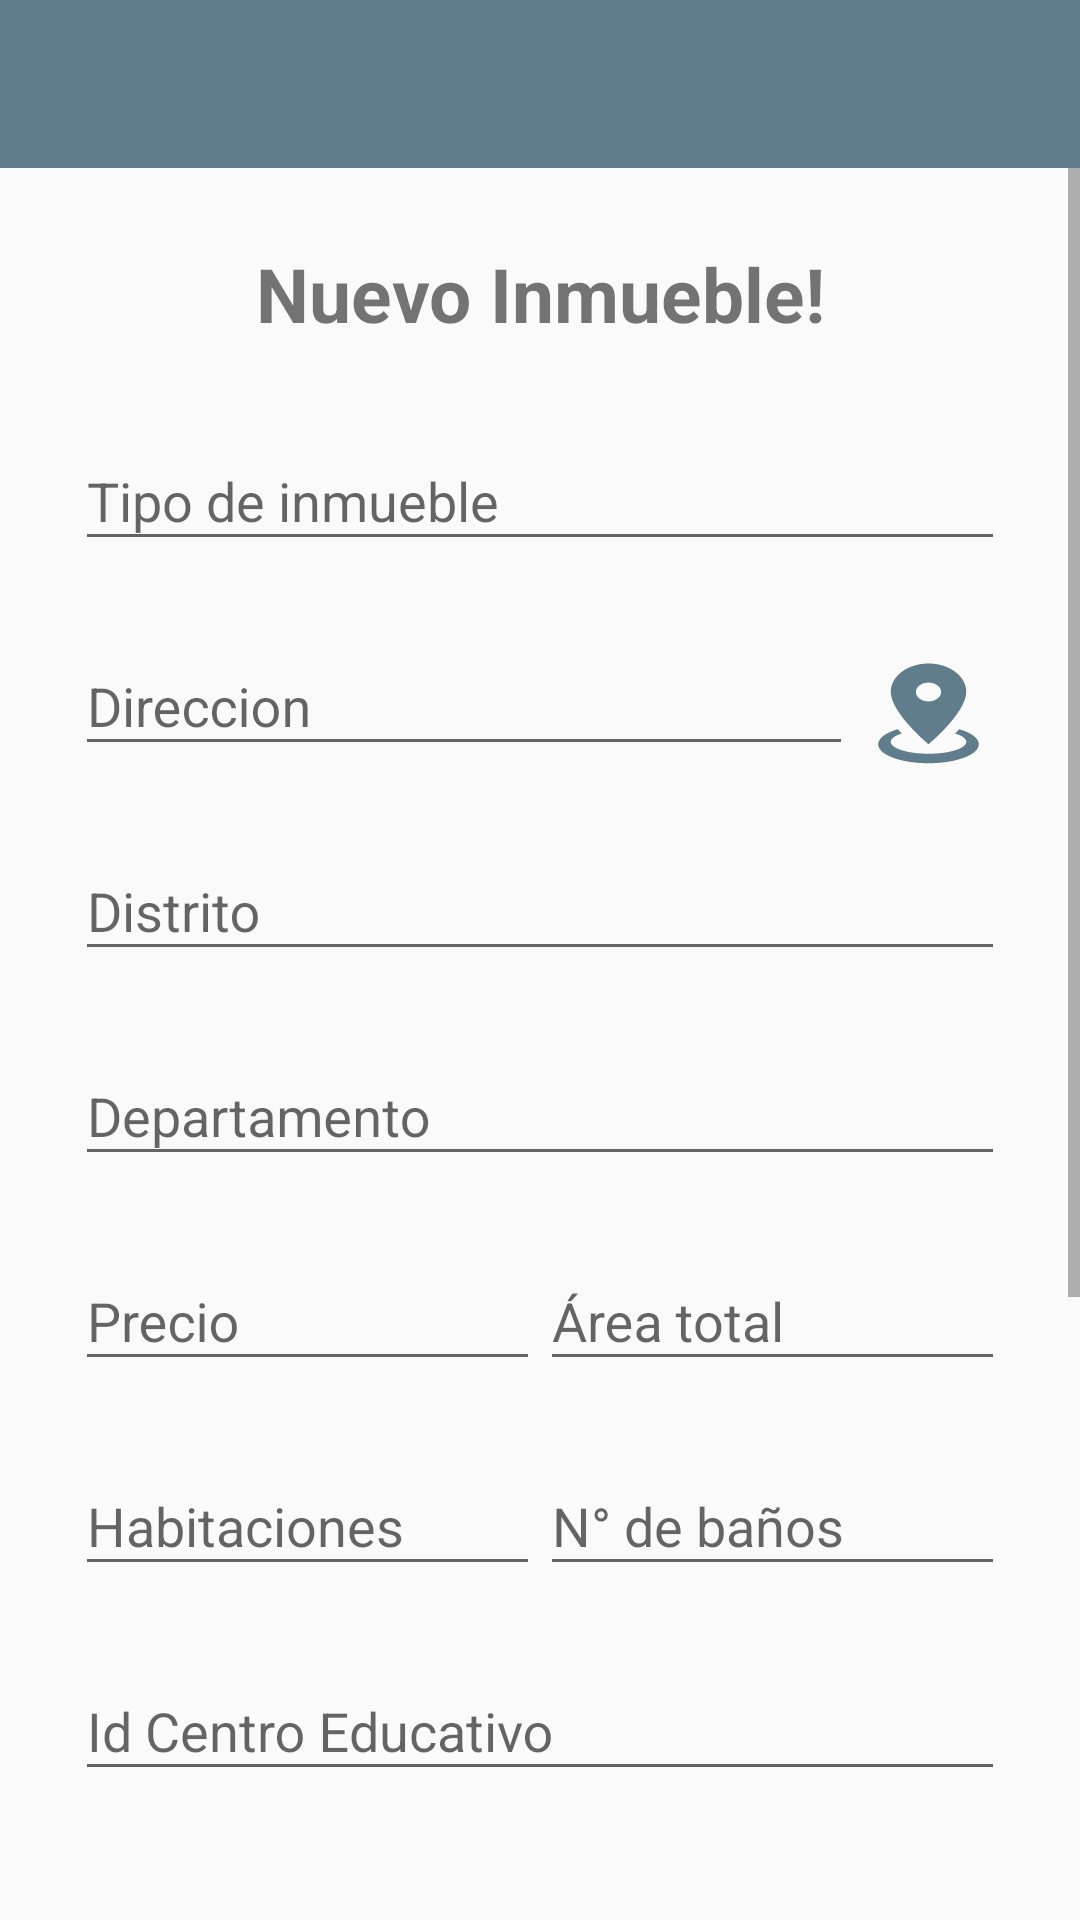

Named icons in this screenshot (1080*1920) and their bounding boxes, bbox(x1, y1, x2, y2):
map marker radius: bbox(878, 663, 979, 764)
